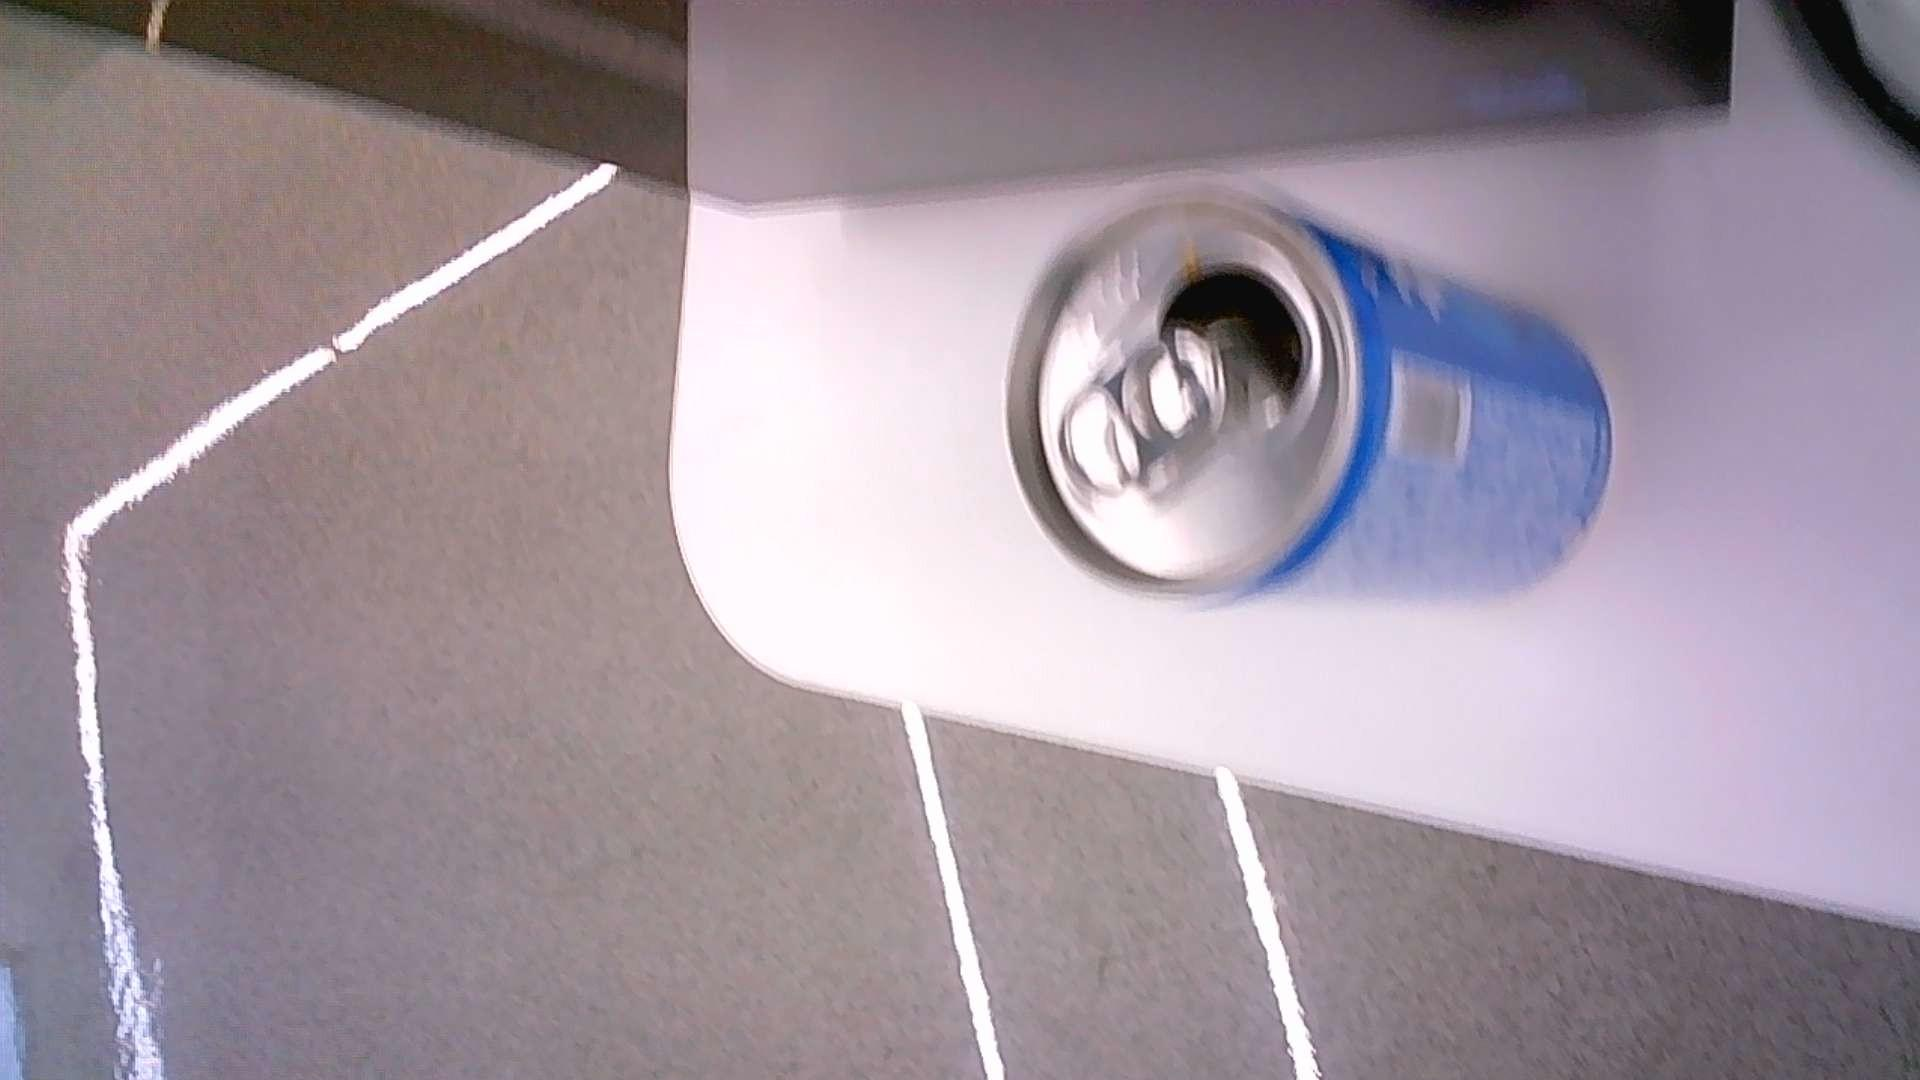letsbe: (1002, 182, 1615, 608)
